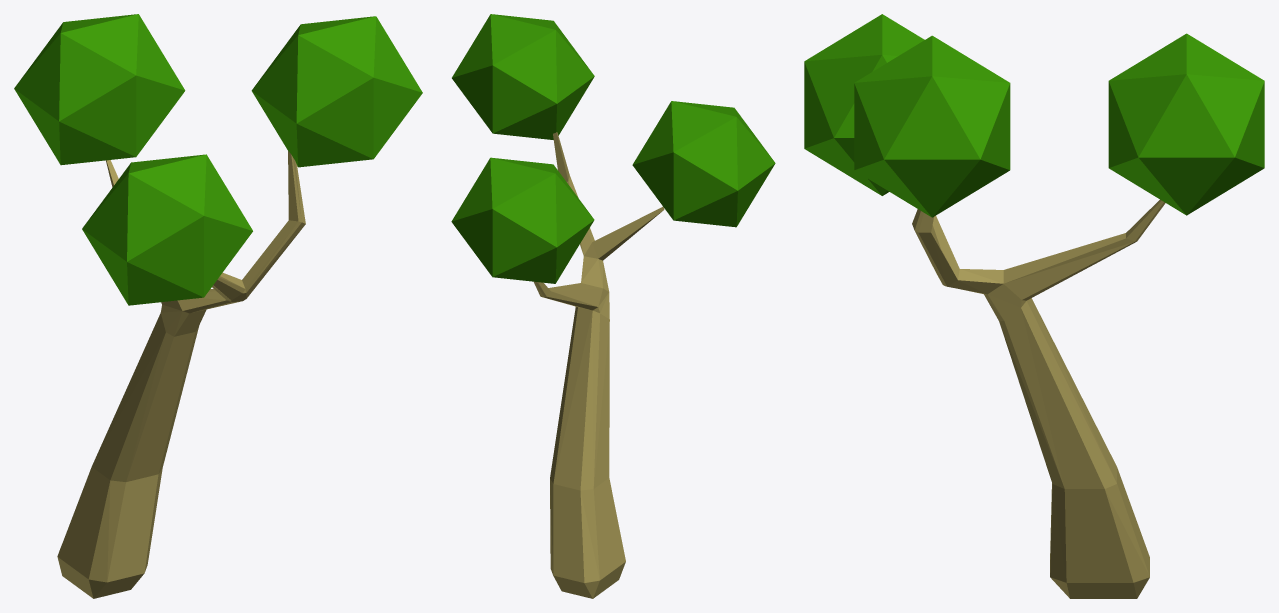
File: stm_env_Tree01.fbx
3 renders of one model, left to right at view 1: azimuth 30°, elevation 25°; view 2: azimuth 150°, elevation 25°; view 3: azimuth 270°, elevation 25°, orthographic. The views are drawn at different scales.
Parts seen in each view (by area): view 1: Tree01, Leaves02, Platonic_2, Leaves01; view 2: Tree01, Leaves02, Platonic_2, Leaves01; view 3: Tree01, Leaves01, Platonic_2, Leaves02.
Part boxes in pixels (x1=…): Tree01: x1=57, y1=151, x2=305, y2=598; Leaves02: x1=82, y1=154, x2=252, y2=305; Platonic_2: x1=14, y1=14, x2=185, y2=165; Leaves01: x1=251, y1=16, x2=422, y2=167; Tree01: x1=534, y1=132, x2=664, y2=598; Leaves02: x1=632, y1=101, x2=775, y2=227; Platonic_2: x1=451, y1=157, x2=594, y2=283; Leaves01: x1=452, y1=14, x2=594, y2=139; Tree01: x1=912, y1=199, x2=1165, y2=598; Leaves01: x1=854, y1=35, x2=1010, y2=217; Platonic_2: x1=1108, y1=33, x2=1264, y2=215; Leaves02: x1=804, y1=14, x2=924, y2=195.
Bounding box in the file's own units: 430 × 742 × 502.
